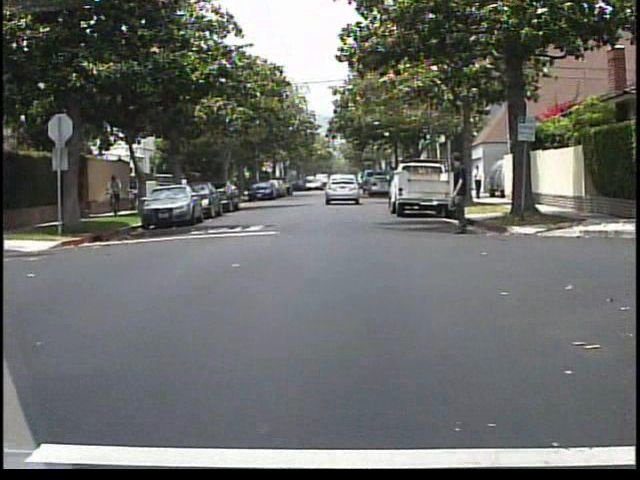person: (437, 153, 485, 236), (104, 171, 127, 215), (124, 169, 147, 206), (175, 171, 192, 210), (473, 163, 486, 203)
